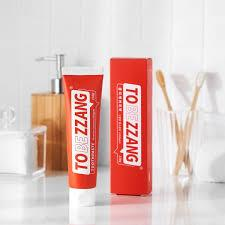toothpaste: (55, 62, 109, 210)
